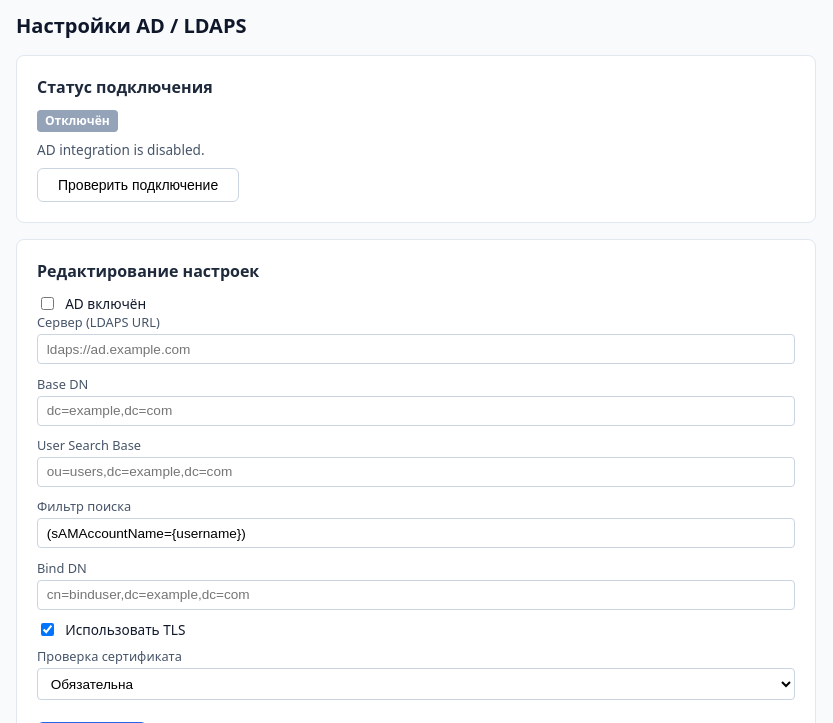
Test: ADSettingsPage — test connection flow › shows test success for ok status
Click the button with test id "adsettings-test-btn" at (138, 185), box [37,168,239,202]
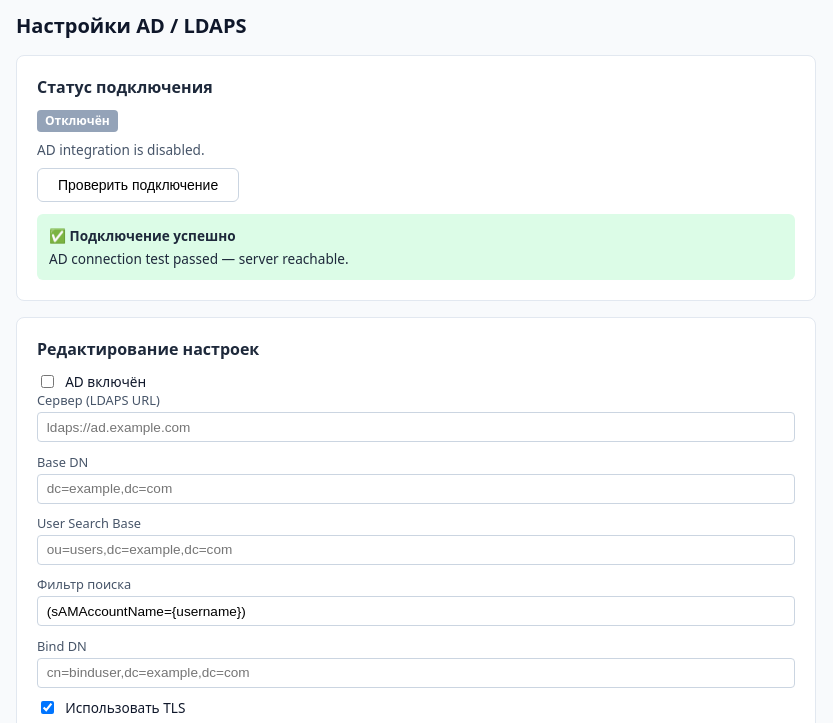
Now the element with test id "adsettings-test-success" is shown, box [37,214,795,280]
Now the text "AD connection test passed — server reachable." is shown, box [49,249,349,268]
